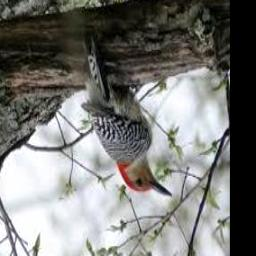Woodpecker: (82, 36, 173, 198)
